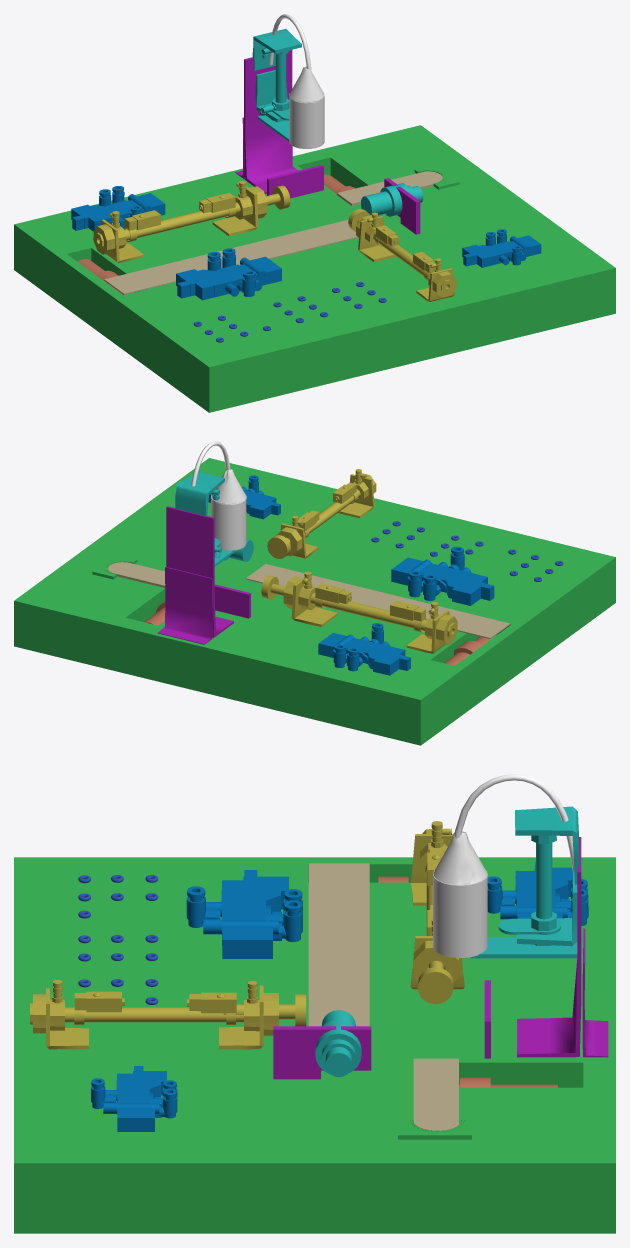
File: MesaBUV.fbx
3 renders of one model, top to bottom at view 1: azimuth 30°, elevation 25°; view 2: azimuth 150°, elevation 25°; view 3: azimuth 270°, elevation 25°, orthographic. The views are drawn at different scales.
Visible parts, largest first — view 1: polySurface5, pasted__pCube20, pasted__pPlane2, pasted__pCube112, pasted__pCube40, pasted__pCube21, pCone2, pasted__pCube39, pasted__polySurface35.001, pCube1, pasted__polySurface133, pasted__pPlane3 (+5 smaller); view 2: polySurface5, pasted__pCube20, pasted__pCube40, pasted__pCube112, pasted__pCube113, pasted__pPlane2, pasted__pCube21, pasted__pCube39, pCone2, pasted__polySurface133, pasted__polySurface35.001, pCube1 (+5 smaller); view 3: polySurface5, pasted__pPlane2, pasted__pCube21, pasted__pCube40, pCone2, pasted__polySurface35.001, pasted__pCube20, pasted__pCube112, pasted__pCube39, pasted__pPlane3, pasted__pCube1, pasted__polySurface133 (+13 smaller).
Boxes of the visible parts, <box> form: polySurface5: <box>14,125,615,412</box>; pasted__pCube20: <box>93,181,267,263</box>; pasted__pPlane2: <box>104,219,358,294</box>; pasted__pCube112: <box>244,50,297,194</box>; pasted__pCube40: <box>176,248,281,300</box>; pasted__pCube21: <box>356,212,456,302</box>; pCone2: <box>289,66,324,148</box>; pasted__pCube39: <box>71,186,165,231</box>; pasted__polySurface35.001: <box>462,229,541,267</box>; pCube1: <box>267,165,323,198</box>; pasted__polySurface133: <box>252,28,301,70</box>; pasted__pPlane3: <box>337,171,444,205</box>; polySurface5: <box>14,458,615,745</box>; pasted__pCube20: <box>283,571,457,653</box>; pasted__pCube40: <box>391,546,494,605</box>; pasted__pCube112: <box>166,506,233,637</box>; pasted__pCube113: <box>158,567,212,644</box>; pasted__pPlane2: <box>245,564,510,638</box>; pasted__pCube21: <box>276,469,376,558</box>; pasted__pCube39: <box>318,623,410,675</box>; pCone2: <box>211,468,246,550</box>; pasted__polySurface133: <box>175,472,224,515</box>; pasted__polySurface35.001: <box>208,475,280,519</box>; pCube1: <box>214,584,250,618</box>; polySurface5: <box>14,857,615,1233</box>; pasted__pPlane2: <box>308,863,369,1026</box>; pasted__pCube21: <box>30,980,278,1049</box>; pasted__pCube40: <box>186,870,302,958</box>; pCone2: <box>432,831,487,957</box>; pasted__polySurface35.001: <box>91,1066,177,1131</box>; pasted__pCube20: <box>410,821,464,989</box>; pasted__pCube112: <box>517,837,581,1057</box>; pasted__pCube39: <box>487,861,588,926</box>; pasted__pPlane3: <box>413,1058,458,1130</box>; pasted__pCube1: <box>273,1026,371,1070</box>; pasted__polySurface133: <box>515,806,579,884</box>.
Size of the model in its own units: 37.3 by 19.15 by 31.
